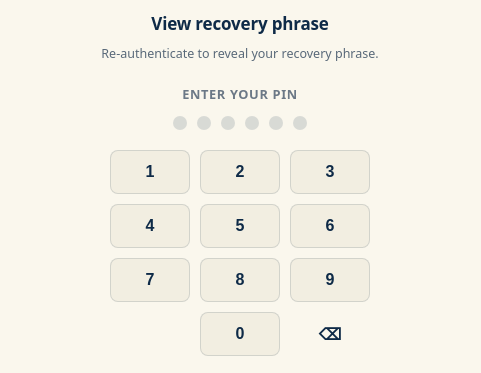
Test: Backup › shows an imported-key message (never the key) for an nsec master
The image size is (481, 373).
Click the button "1" at (150, 172), box [110,150,190,194]
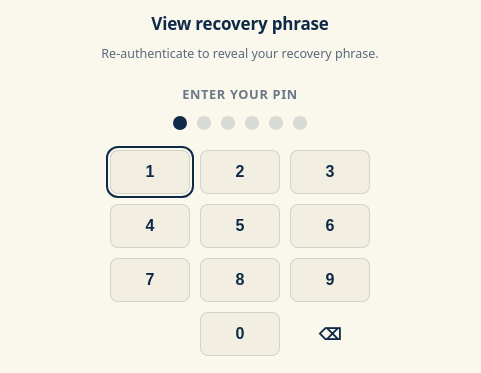
Click the button "2" at (240, 172), box [200,150,280,194]
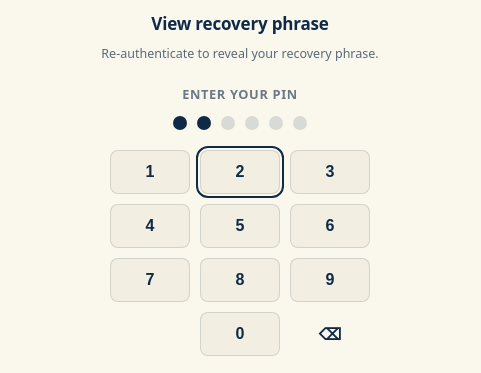
Click the button "3" at (330, 172), box [290,150,370,194]
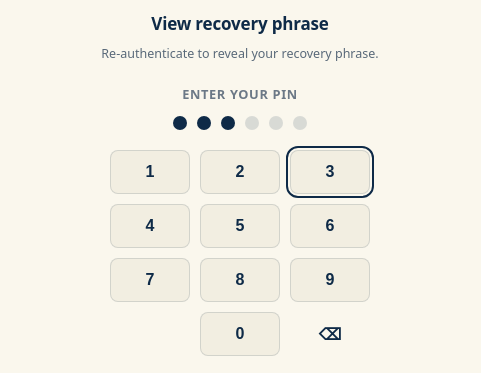
Click the button "4" at (150, 226), box [110,204,190,248]
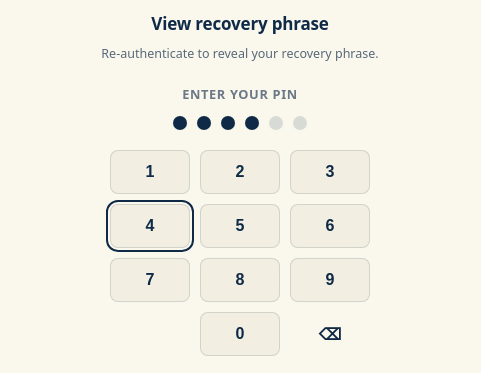
Click the button "5" at (240, 226), box [200,204,280,248]
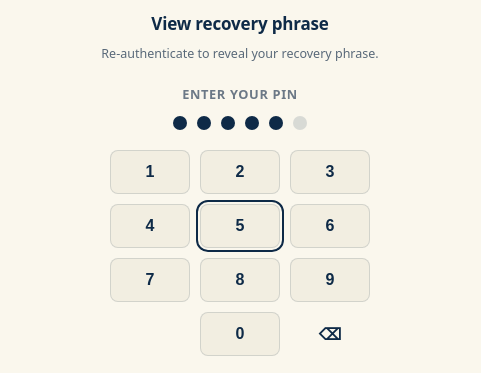
Click the button "6" at (330, 226), box [290,204,370,248]
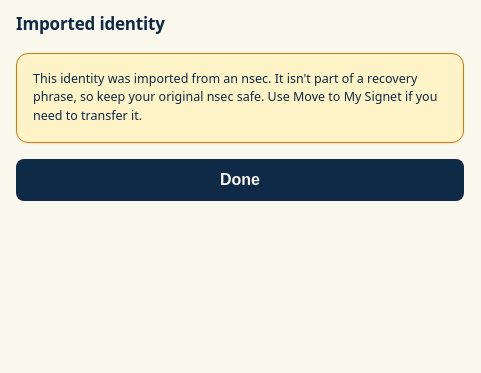
Now the text "imported from an nsec" is shown, box [33,70,437,124]
